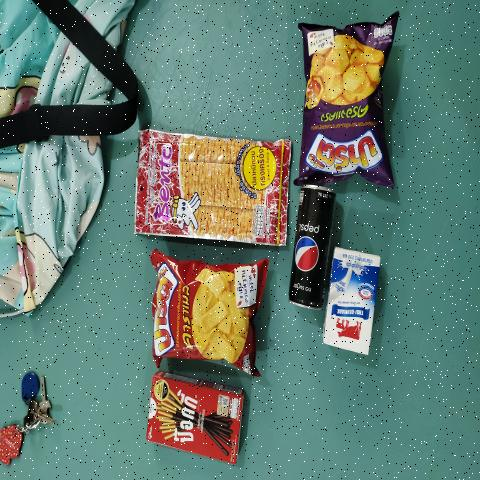bento_red: (144, 134, 284, 244)
party_purple: (309, 31, 387, 180)
party_red: (161, 268, 251, 366)
pepsi_black: (296, 185, 326, 310)
pokki: (146, 373, 234, 464)
thai_denmark: (332, 251, 368, 355)
